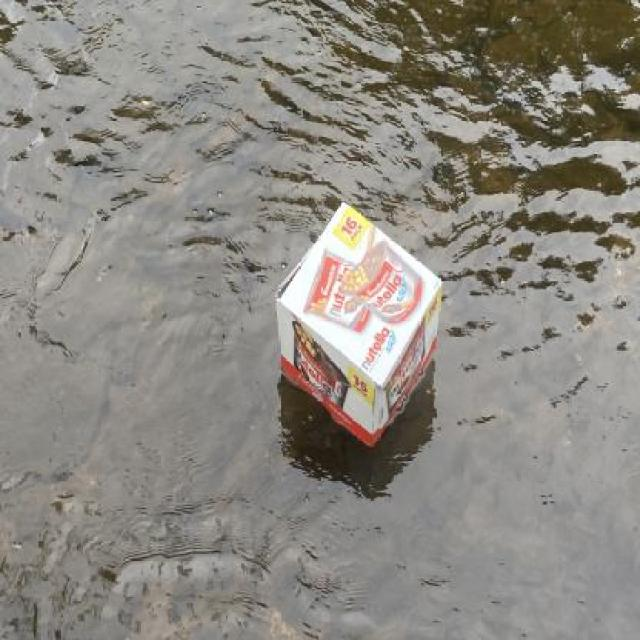Cardboard: (270, 195, 448, 454)
